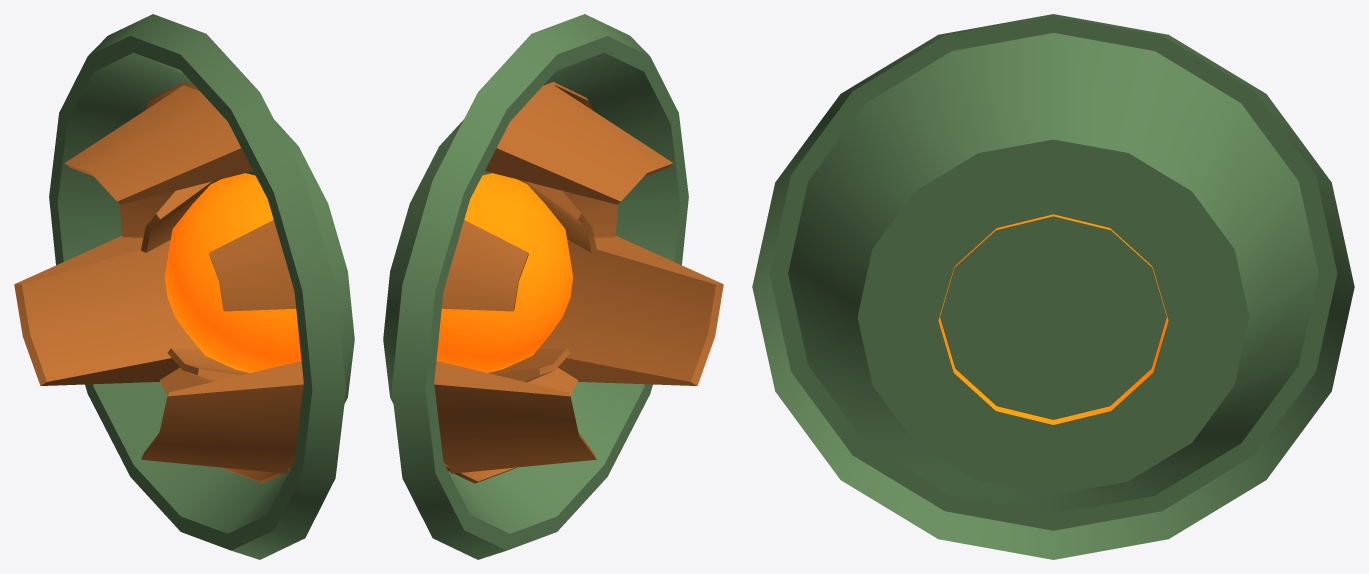
The model's file is Boss A Laser.glb.
The picture shows the model from 3 angles, left to right: view 1: azimuth 30°, elevation 25°; view 2: azimuth 150°, elevation 25°; view 3: azimuth 270°, elevation 25°; orthographic projection. The views are drawn at different scales.
Parts seen in each view (by area): view 1: Origin Boss A Laser Socket, Cylinder 013, Sphere, Cylinder 015, Cylinder 012; view 2: Origin Boss A Laser Socket, Cylinder 013, Sphere, Cylinder 015, Cylinder 012; view 3: Origin Boss A Laser Socket, Sphere.
Boxes of the visible parts, x1=… form: Origin Boss A Laser Socket: x1=49, y1=14, x2=354, y2=559; Cylinder 013: x1=14, y1=85, x2=303, y2=473; Sphere: x1=164, y1=173, x2=301, y2=372; Cylinder 015: x1=141, y1=180, x2=296, y2=382; Cylinder 012: x1=119, y1=82, x2=293, y2=483; Origin Boss A Laser Socket: x1=383, y1=14, x2=688, y2=559; Cylinder 013: x1=434, y1=85, x2=723, y2=473; Sphere: x1=436, y1=173, x2=573, y2=372; Cylinder 015: x1=441, y1=180, x2=596, y2=382; Cylinder 012: x1=444, y1=82, x2=618, y2=483; Origin Boss A Laser Socket: x1=752, y1=14, x2=1354, y2=559; Sphere: x1=938, y1=214, x2=1168, y2=424.
Size of the model in its own units: 49.07 by 132 by 132.
